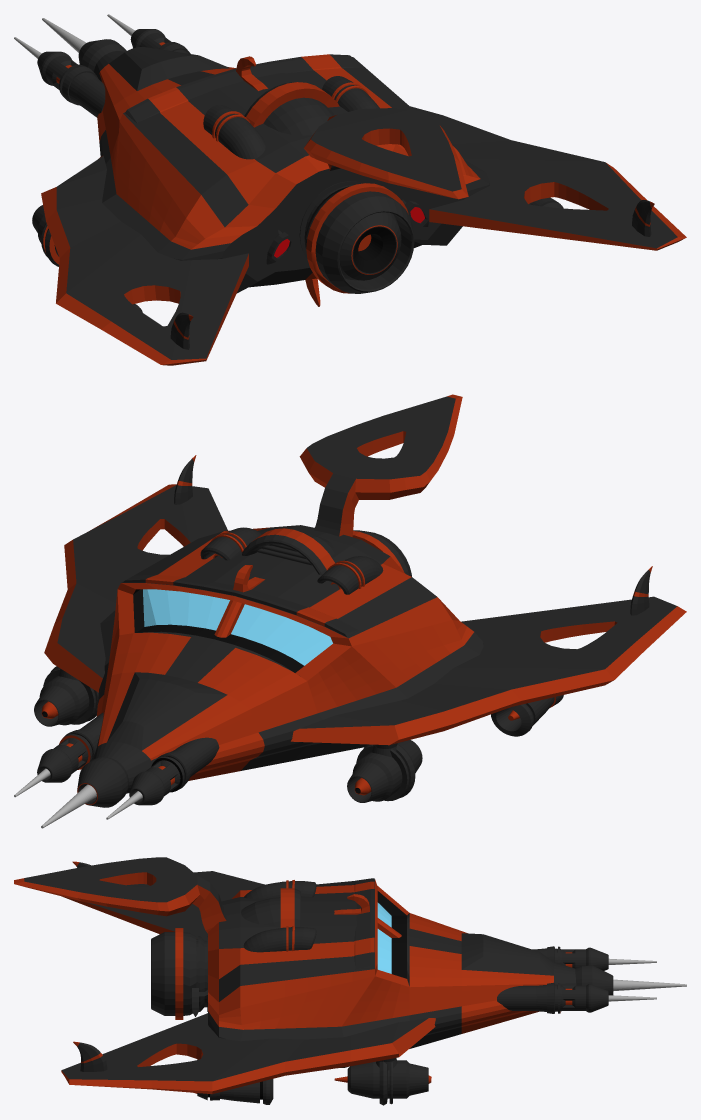
Rendered from Low-Poly-Spaceship.obj.
3 views of the same model, one above another, from view 1: azimuth 30°, elevation 25°; view 2: azimuth 150°, elevation 25°; view 3: azimuth 270°, elevation 25° (orthographic). The views are drawn at different scales.
Visible parts, largest first — view 1: Cube.003_Cube.001; view 2: Cube.003_Cube.001; view 3: Cube.003_Cube.001.
Boxes of the visible parts, bbox=[...] form: Cube.003_Cube.001: bbox=[14, 14, 686, 365]; Cube.003_Cube.001: bbox=[14, 394, 686, 828]; Cube.003_Cube.001: bbox=[14, 857, 686, 1105].
Bounding box in the file's own units: 36.34 × 13.57 × 47.47.
